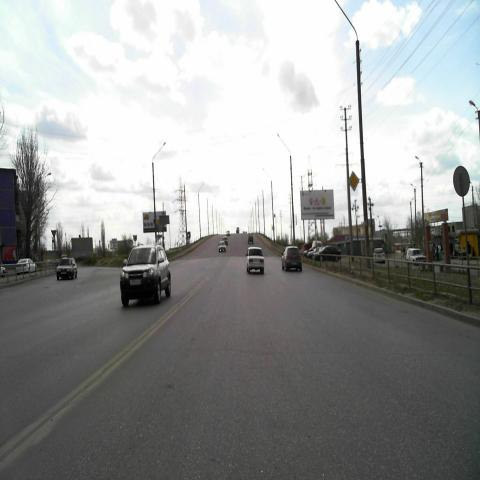2_1: (348, 171, 358, 192)
